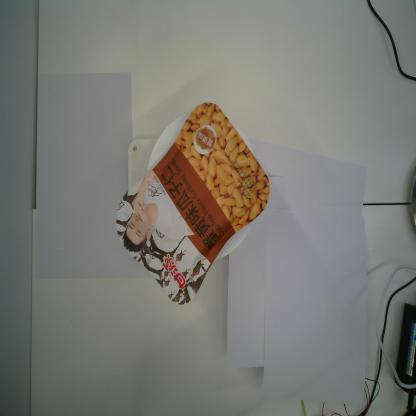Dried Fruit: (116, 101, 270, 306)
